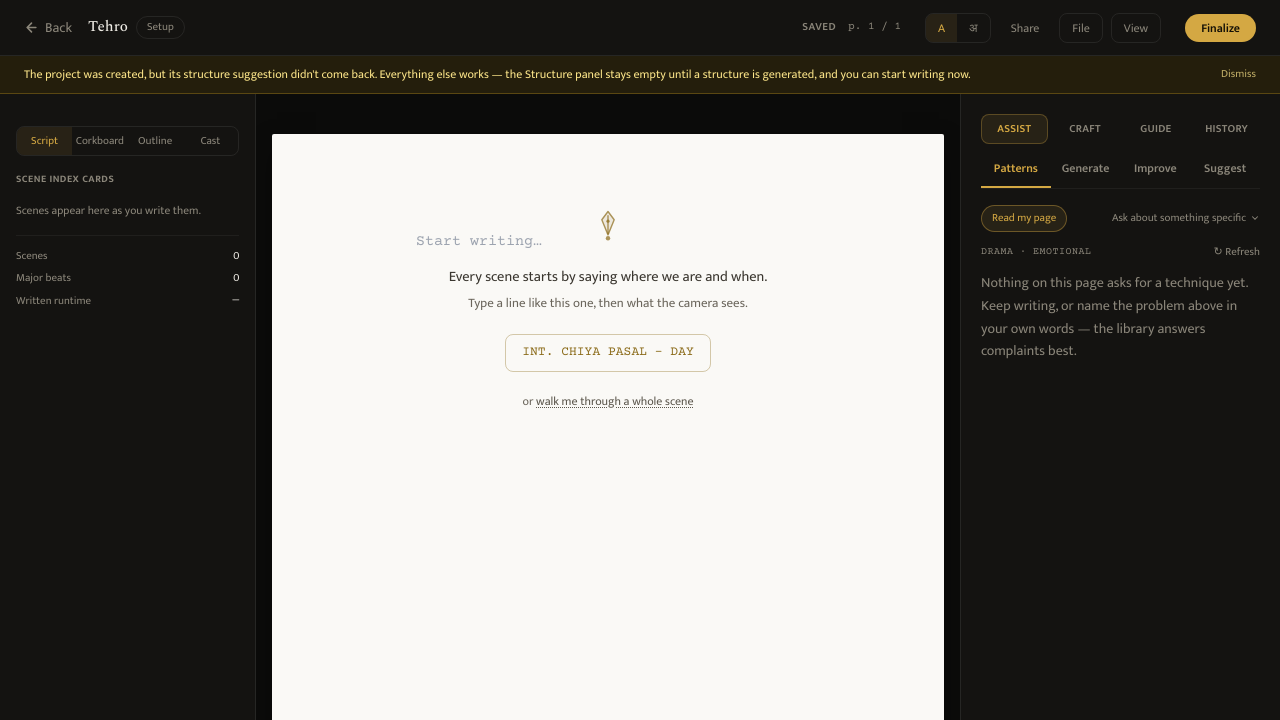
it: ScriptEditor › shows a notice when the wizard could not generate a structure
Expected: the text "structure suggestion didn't come back" is shown, [24,64,971,84]
Click the button "Dismiss" at point(1238, 74), box [1221,66,1256,82]
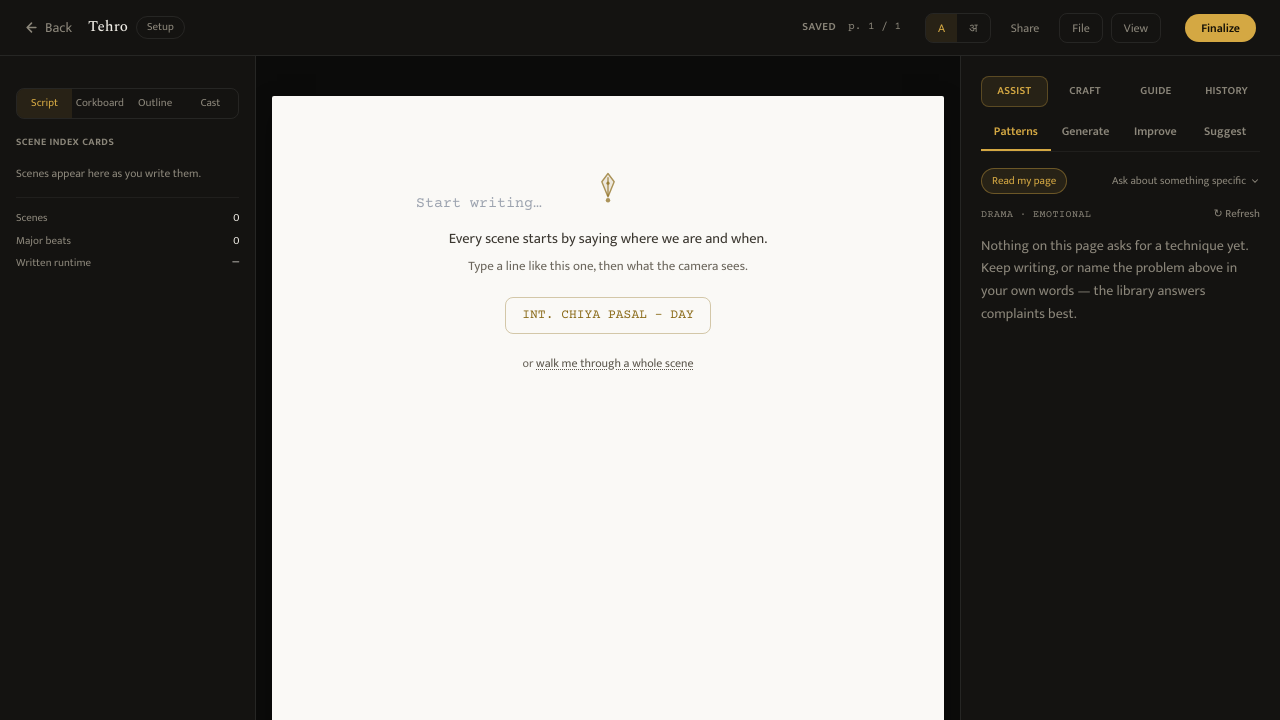
Expected: the text "structure suggestion didn't come back" is gone
